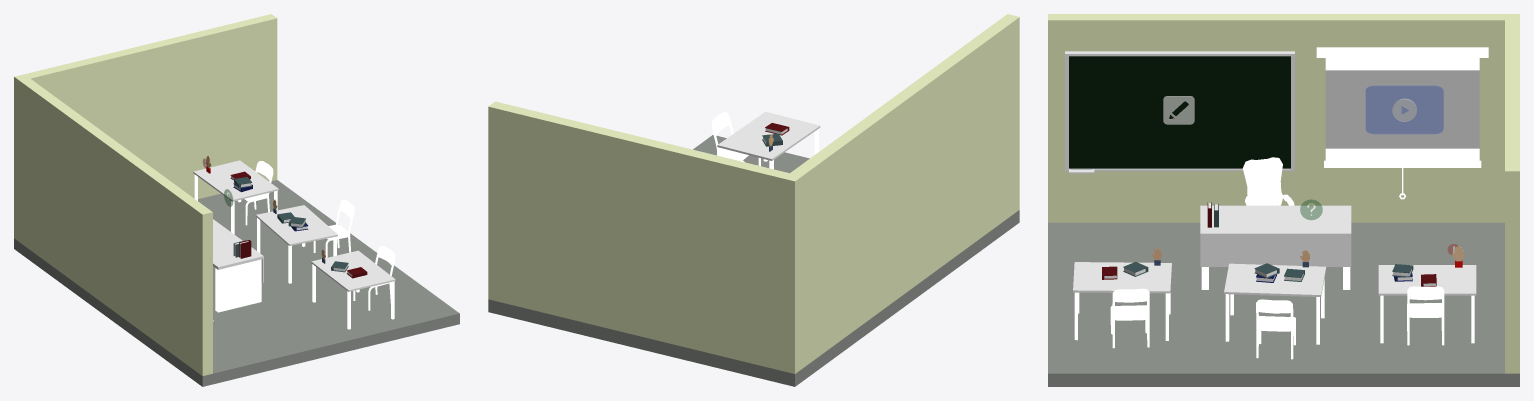
File: Education.glb
The picture shows the model from 3 angles, left to right: view 1: azimuth 30°, elevation 25°; view 2: azimuth 150°, elevation 25°; view 3: azimuth 270°, elevation 25°; orthographic projection. The views are drawn at different scales.
Parts seen in each view (by area): view 1: Plane.001, Plane.011, Plane, Plane.005, Plane.013, Plane.009, Plane.007, Plane.006, SM_Chair_Offiice_01.004, SM_Chair_Offiice_01.001, SM_Chair_Offiice_01.002, Plane.012 (+1 smaller); view 2: Plane.011, Plane.001, Plane, Plane.013, SM_Chair_Offiice_01.002; view 3: Plane, Plane.001, Plane.010, SM_Prop_ProjectorScreen_02_Down, Plane.006, Plane.011, Plane.014, Plane.002, Plane.013, Plane.007, Plane.009, Office_Chair_07 (+7 smaller).
Boxes of the visible parts, box(x1,y1,x2,y2) form: Plane.001: box(19, 78, 212, 376); Plane.011: box(14, 14, 277, 242); Plane: box(14, 180, 459, 386); Plane.005: box(215, 259, 261, 312); Plane.013: box(311, 250, 395, 291); Plane.009: box(193, 160, 278, 201); Plane.007: box(256, 205, 337, 245); Plane.006: box(213, 219, 263, 282); SM_Chair_Offiice_01.004: box(313, 199, 354, 257); SM_Chair_Offiice_01.001: box(244, 161, 273, 225); SM_Chair_Offiice_01.002: box(353, 246, 395, 310); Plane.012: box(312, 264, 394, 329); Plane.011: box(488, 101, 801, 373); Plane.001: box(789, 14, 1019, 368); Plane: box(488, 135, 1019, 386); Plane.013: box(717, 111, 820, 160); SM_Chair_Offiice_01.002: box(711, 112, 760, 165); Plane: box(1048, 222, 1519, 386); Plane.001: box(1048, 14, 1506, 222); Plane.010: box(1069, 56, 1290, 168); SM_Prop_ProjectorScreen_02_Down: box(1316, 47, 1488, 199); Plane.006: box(1200, 205, 1351, 266); Plane.011: box(1505, 14, 1519, 373); Plane.014: box(1366, 86, 1443, 133); Plane.002: box(1065, 51, 1294, 171); Plane.013: box(1073, 262, 1171, 293); Plane.007: box(1224, 263, 1326, 296); Plane.009: box(1378, 265, 1476, 295); Office_Chair_07: box(1242, 157, 1294, 205).
Size of the model in its own units: 5 by 3.2 by 6.34.
